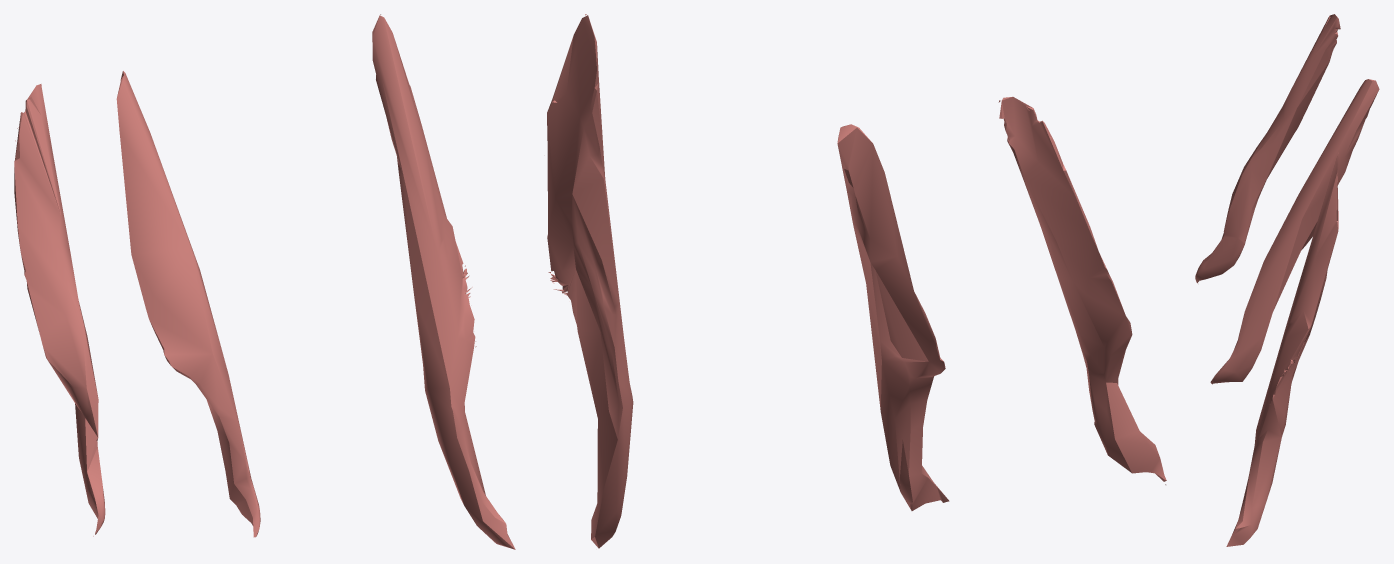
Rendered from fma42403_fj1511m.glb.
3 views of the same model, side by side, from view 1: azimuth 30°, elevation 25°; view 2: azimuth 150°, elevation 25°; view 3: azimuth 270°, elevation 25° (orthographic). The views are drawn at different scales.
Parts seen in each view (by area): view 1: FMA42403_FJ1511M; view 2: FMA42403_FJ1511M; view 3: FMA42403_FJ1511M.
Boxes of the visible parts, x1,y1,x2,y2 form: FMA42403_FJ1511M: (14,14,515,549); FMA42403_FJ1511M: (547,14,1166,548); FMA42403_FJ1511M: (1195,14,1379,546).
Size of the model in its own units: 0.0473 by 0.0515 by 0.0222.
